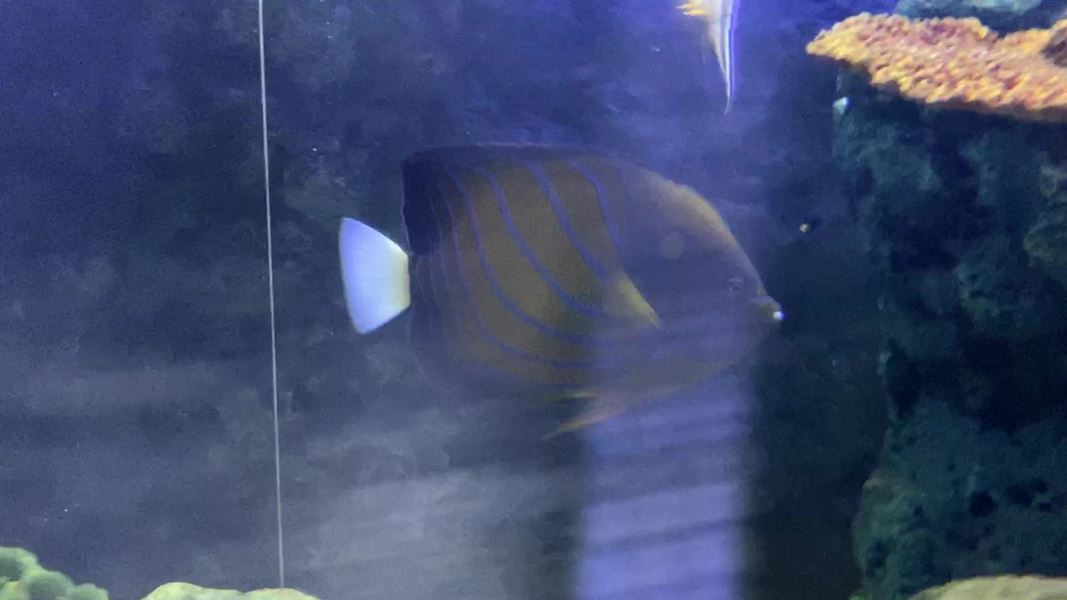Blue ring angelfish: (330, 132, 812, 445)
